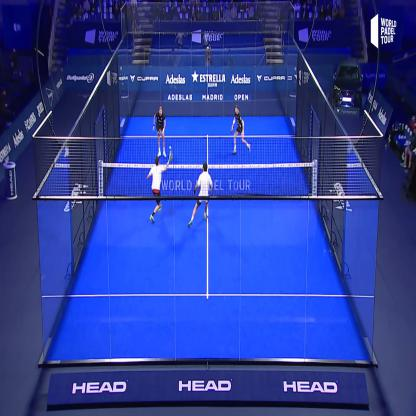ball: (167, 141, 174, 156)
